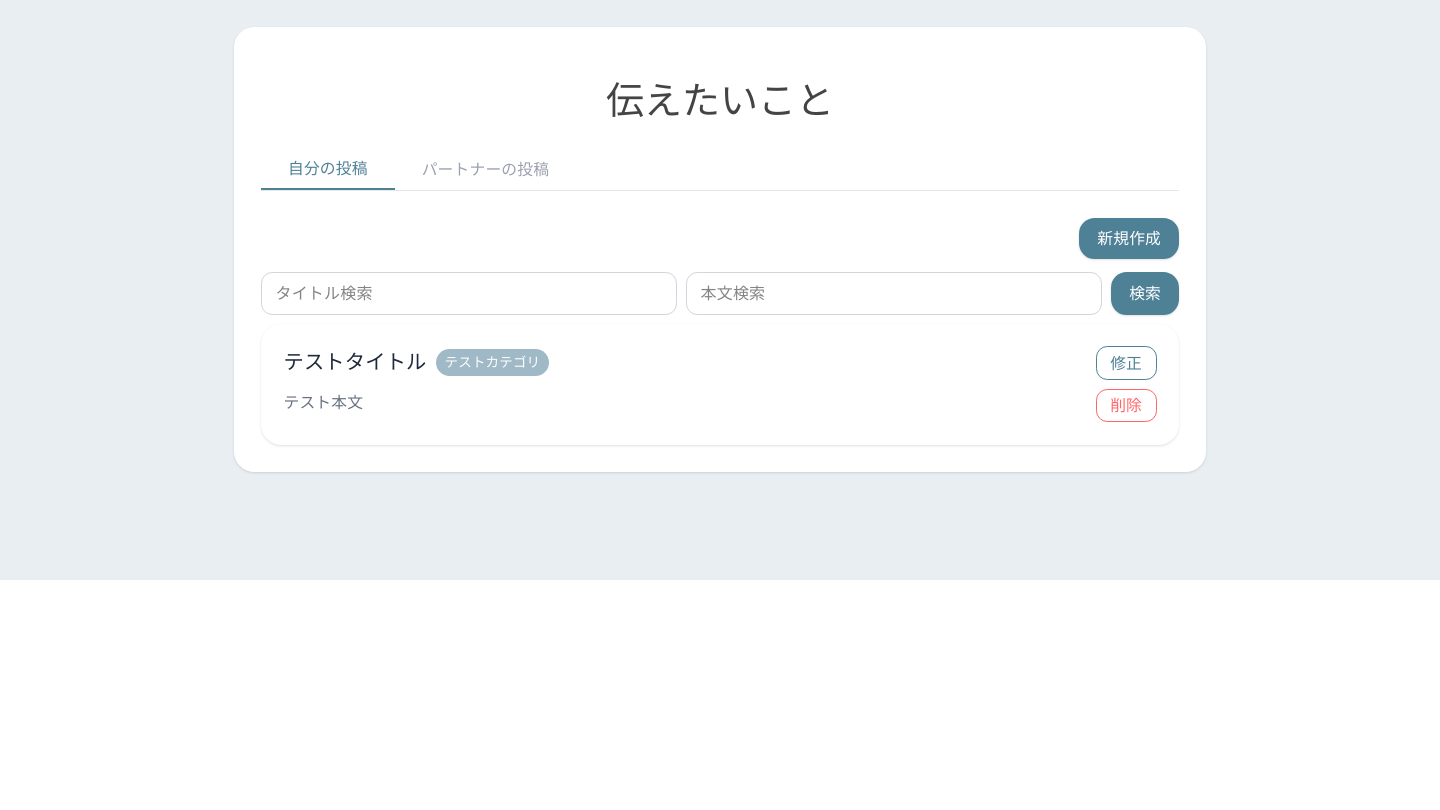
Test case: PostList › 自分の投稿タブ › 修正ボタンをクリックすると編集画面に遷移する
Click the button "修正" at (1126, 363), box x1=1096 y1=346 x2=1156 y2=380
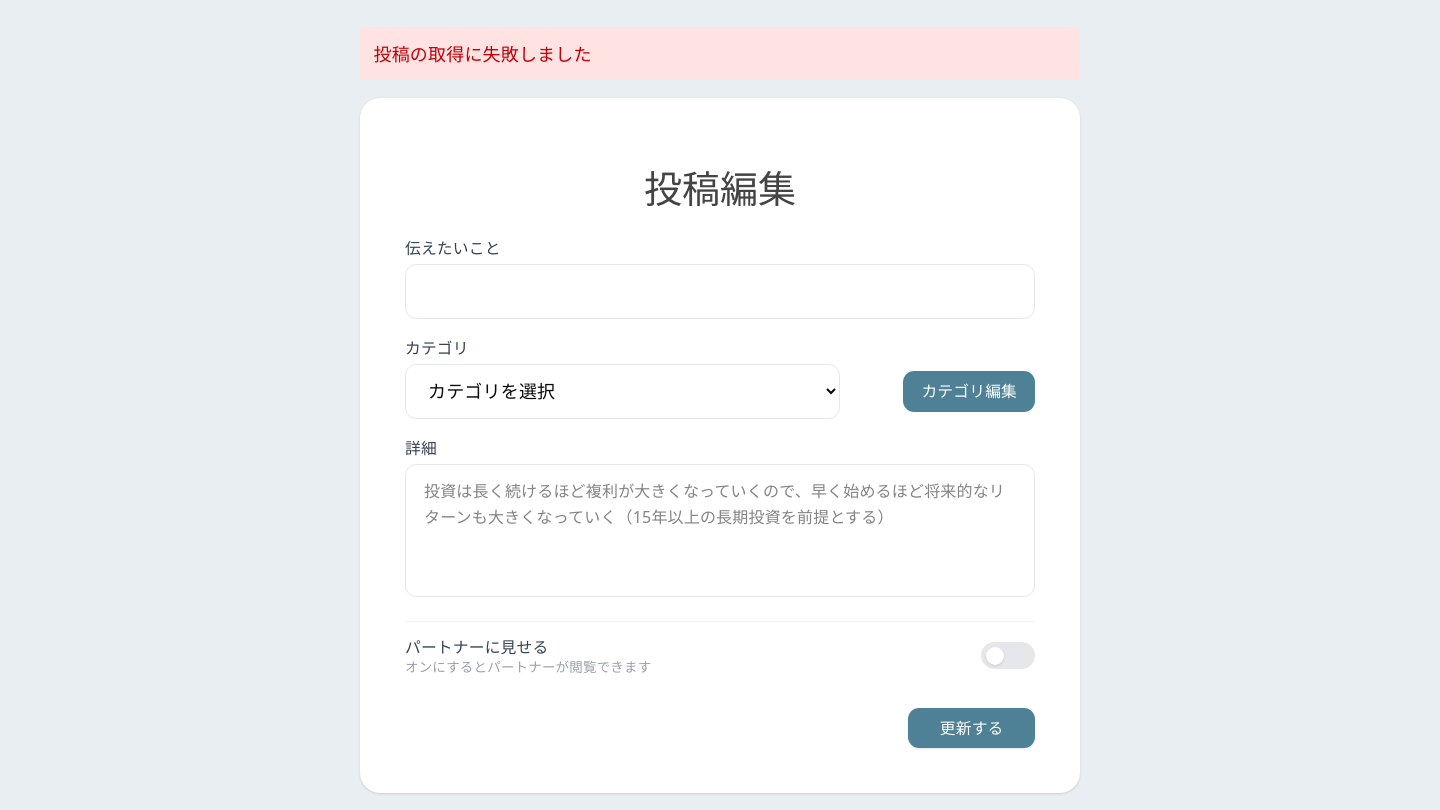
Check: the heading "投稿編集" is shown, box x1=644 y1=162 x2=796 y2=214
